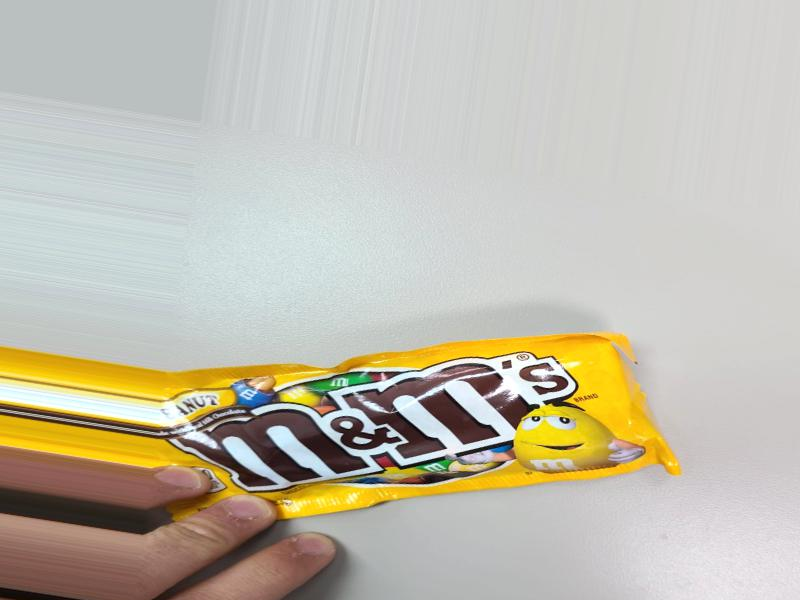m&m: (0, 343, 522, 541)
